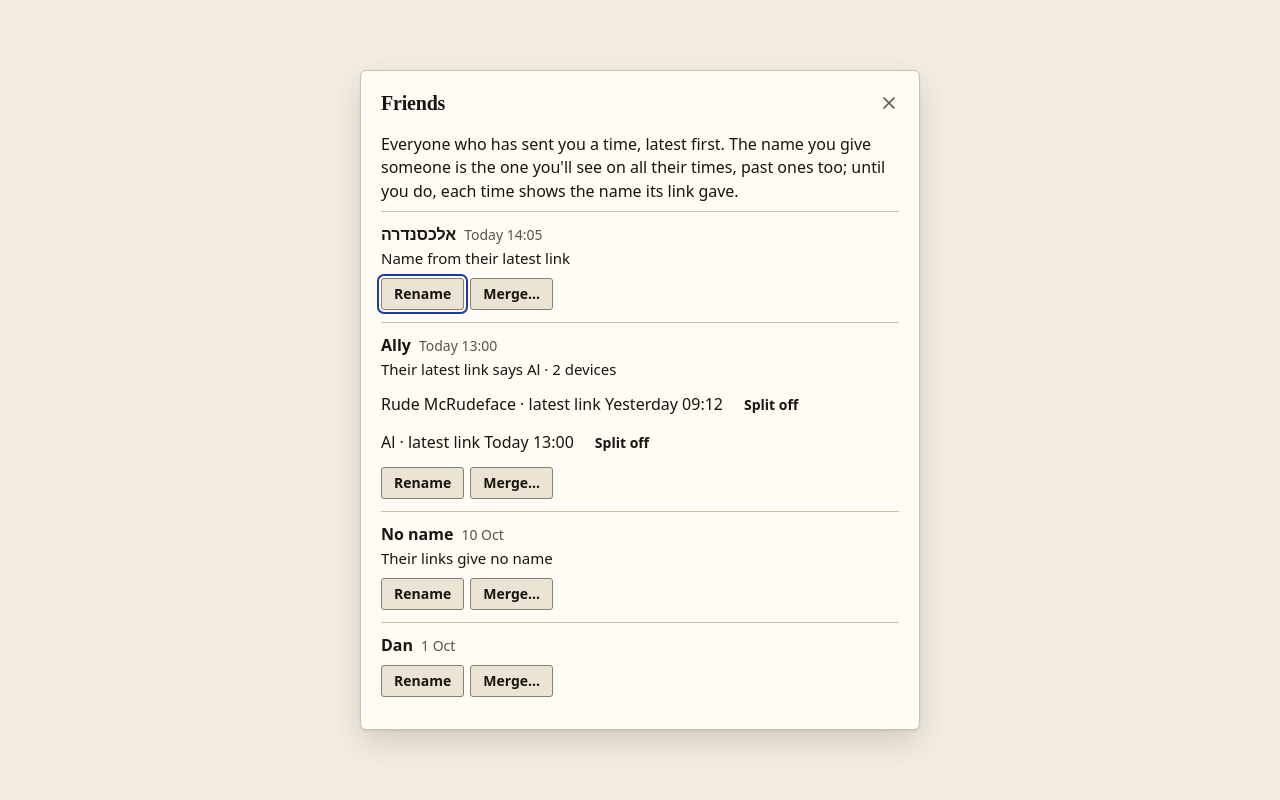
Test: FriendsDialog › renaming › saves on Save, by the friend’s key, then gives focus back to their Rename and says so
This screenshot has width=1280, height=800.
Click the button "Rename" below "Ally" at (423, 483), box left=381, top=467, right=464, bottom=499
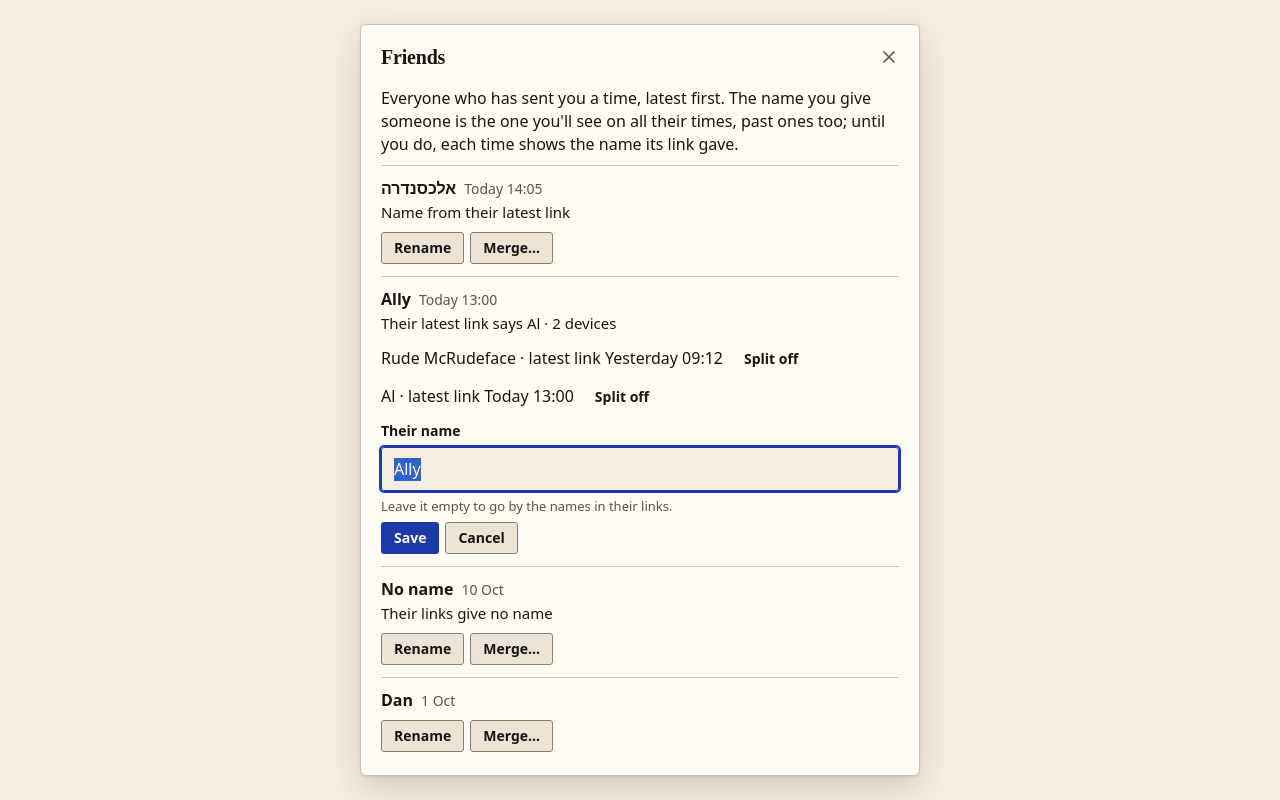
Replace the text in the field labelled "Their name" with "  Ally  Bee " at (640, 469), box left=381, top=447, right=899, bottom=491
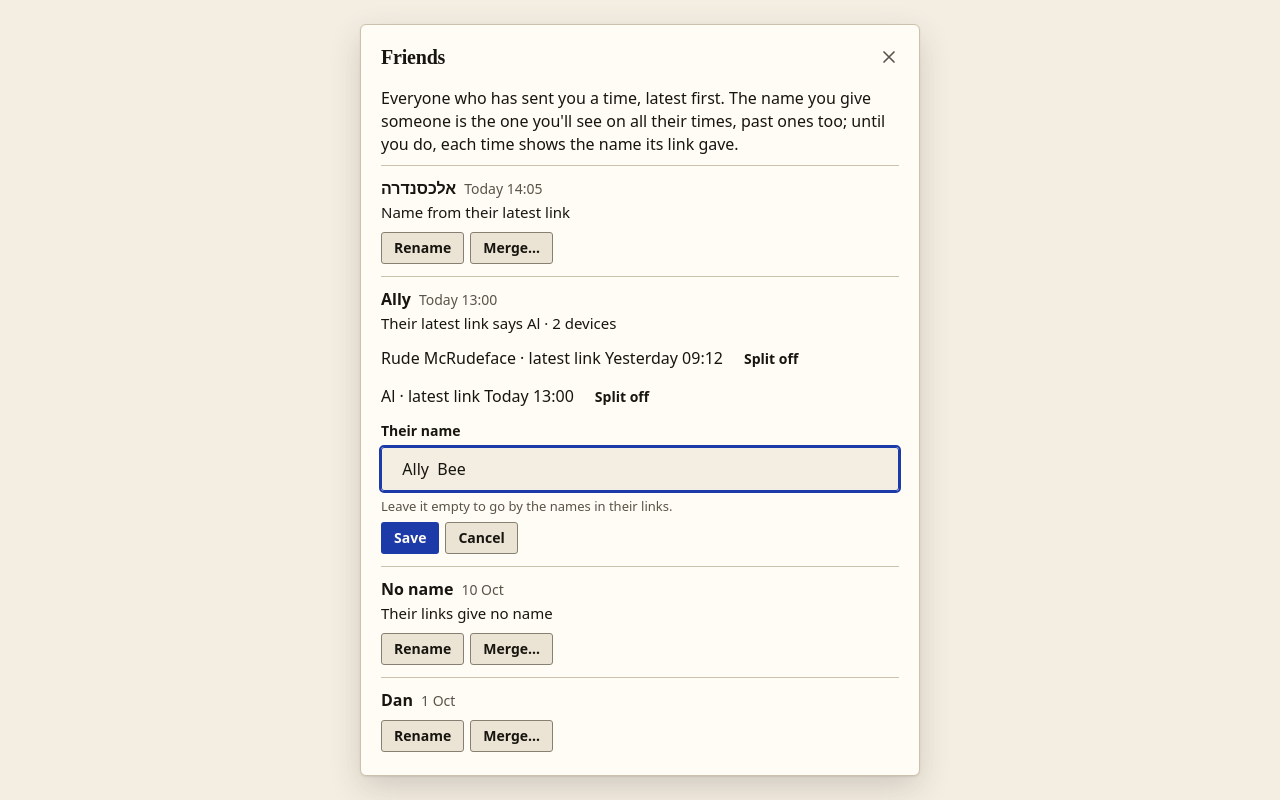
Click the button with aria-label "Save name, Ally" at (410, 538), box left=381, top=522, right=439, bottom=554
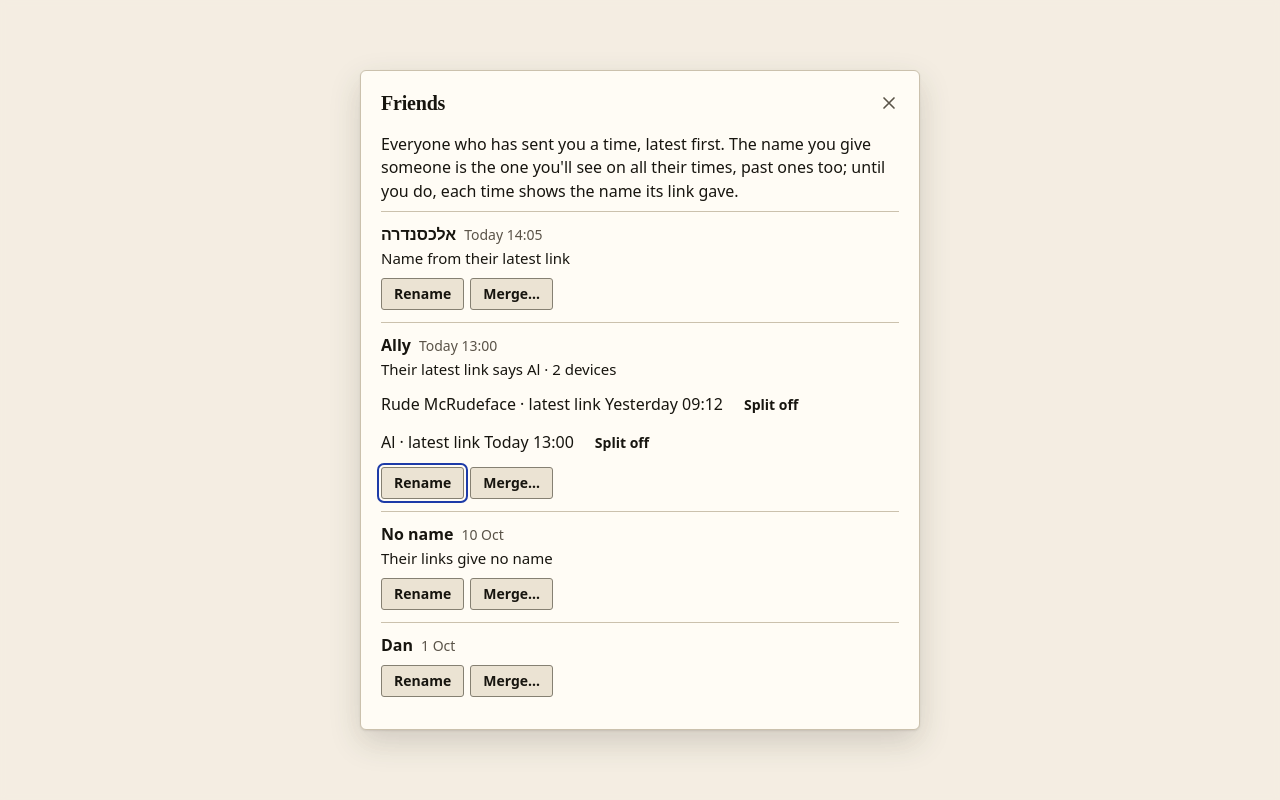
Check: the field is gone
